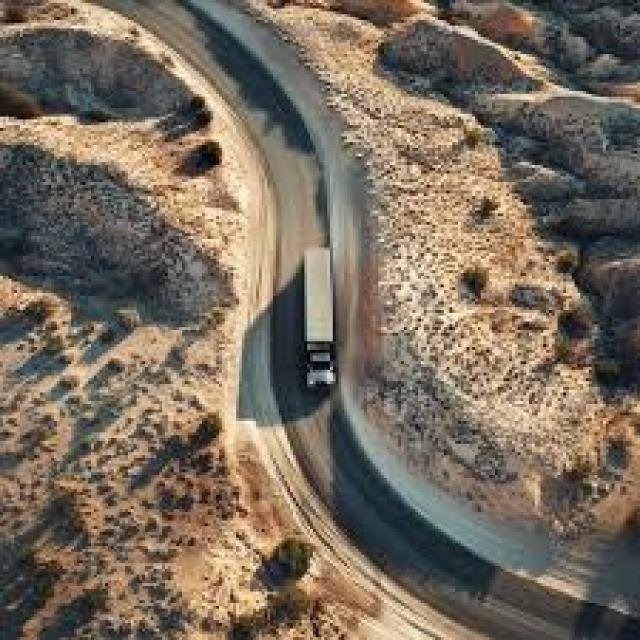truck: (302, 245, 339, 390)
